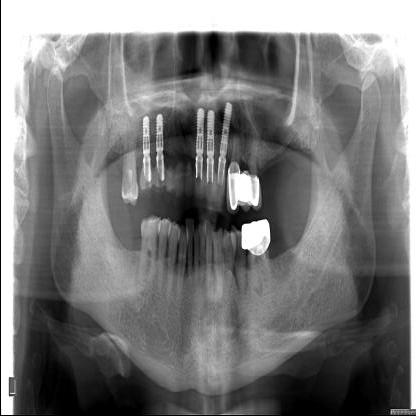ITI: (217, 101, 234, 162), (194, 109, 204, 155), (205, 108, 214, 158), (141, 116, 149, 157), (155, 114, 163, 153)
